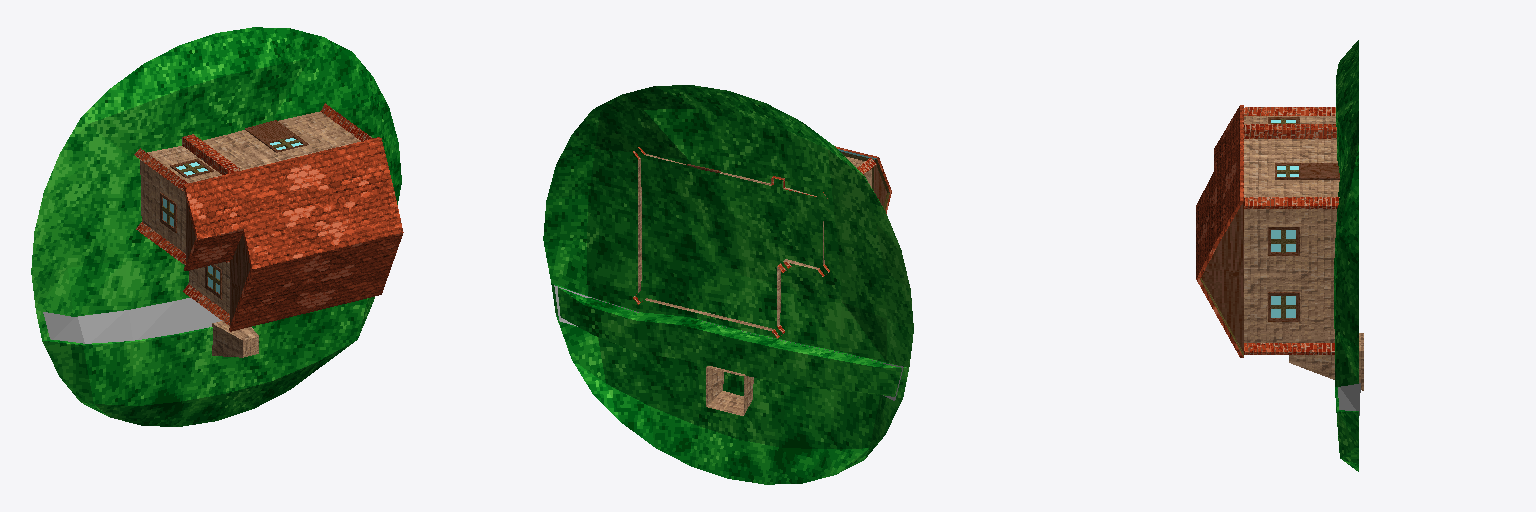
3 renders of one model, left to right at view 1: azimuth 30°, elevation 25°; view 2: azimuth 150°, elevation 25°; view 3: azimuth 270°, elevation 25°, orthographic.
Parts seen in each view (by area): view 1: mill_Plane.001; view 2: mill_Plane.001; view 3: mill_Plane.001.
Boxes of the visible parts, x1=… form: mill_Plane.001: x1=31, y1=27, x2=403, y2=426; mill_Plane.001: x1=543, y1=85, x2=913, y2=484; mill_Plane.001: x1=1196, y1=40, x2=1363, y2=471.
Bounding box in the file's own units: 13.34 × 13.34 × 5.23.
Materials: 4 (3 with a texture image).